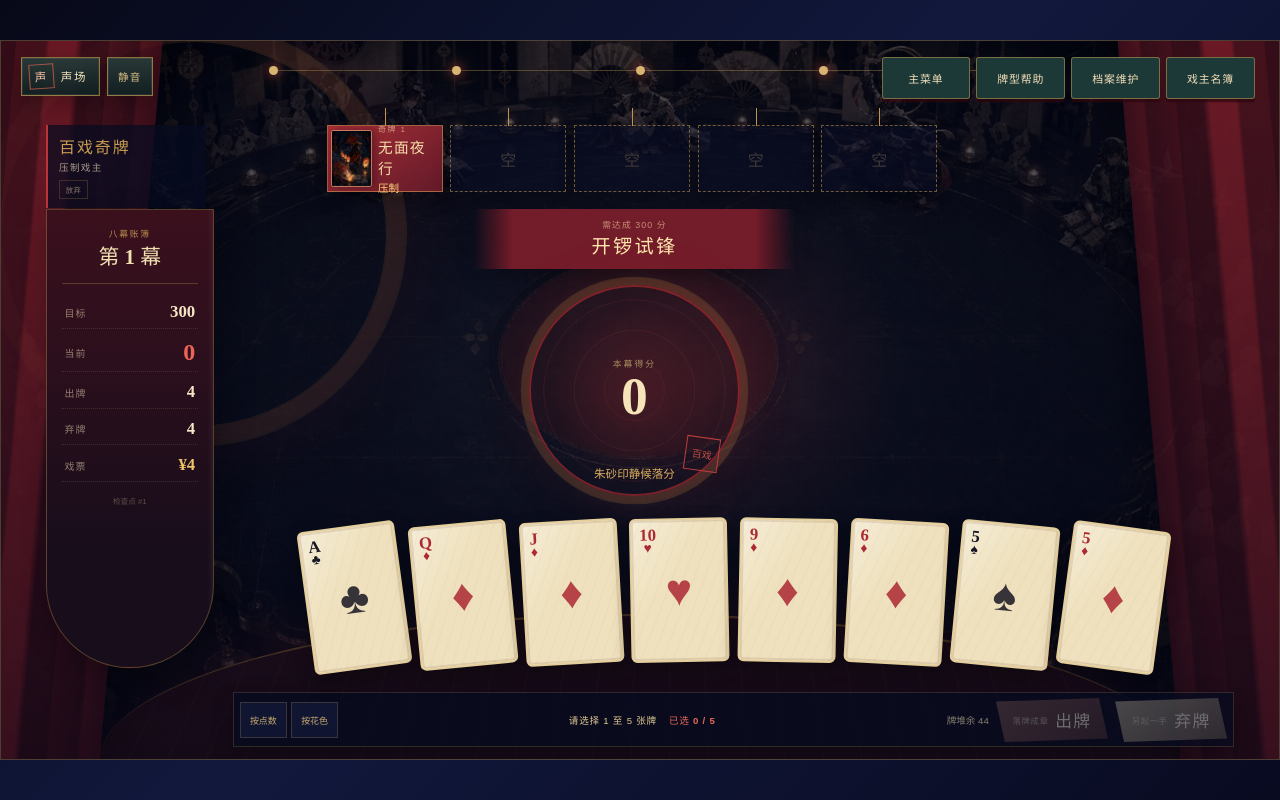
Test: 午夜百戏牌桌 › 可见但被压制的奇牌仍可鉴赏，并保留牌桌压制状态
The width and height of the screenshot is (1280, 800).
expect the text "压制" is shown: met, box [378,182,399,194]
Click the button named "查看 无面夜行 大图" at (352, 159), box [332,130,372,187]
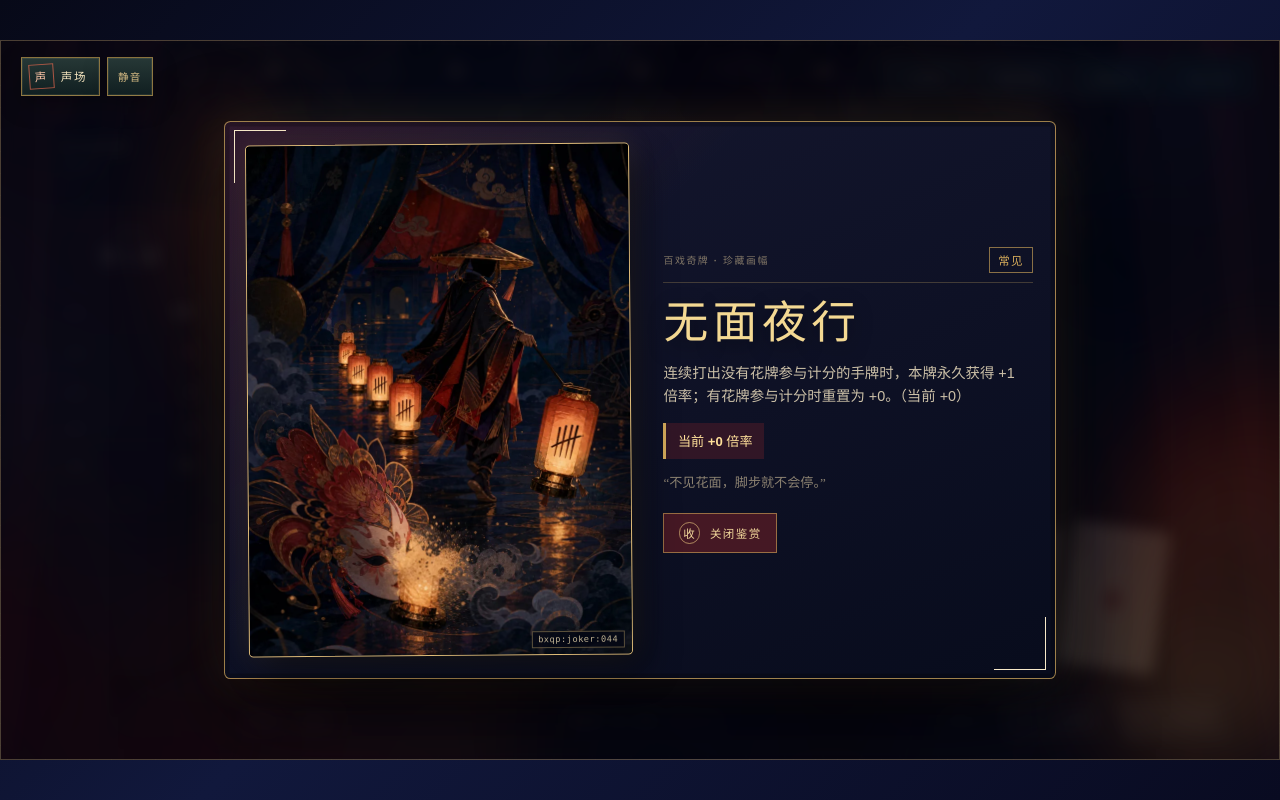
expect the text "压制" is shown: met, box [378,182,399,194]
expect the text "当前 +0 倍率" is shown: met, box [663,423,764,459]
